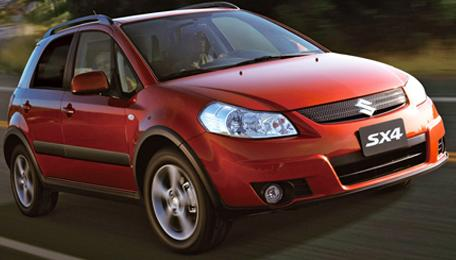front_view: (206, 72, 441, 204)
headlight: (193, 96, 303, 149)
side_glass: (30, 27, 121, 97)
